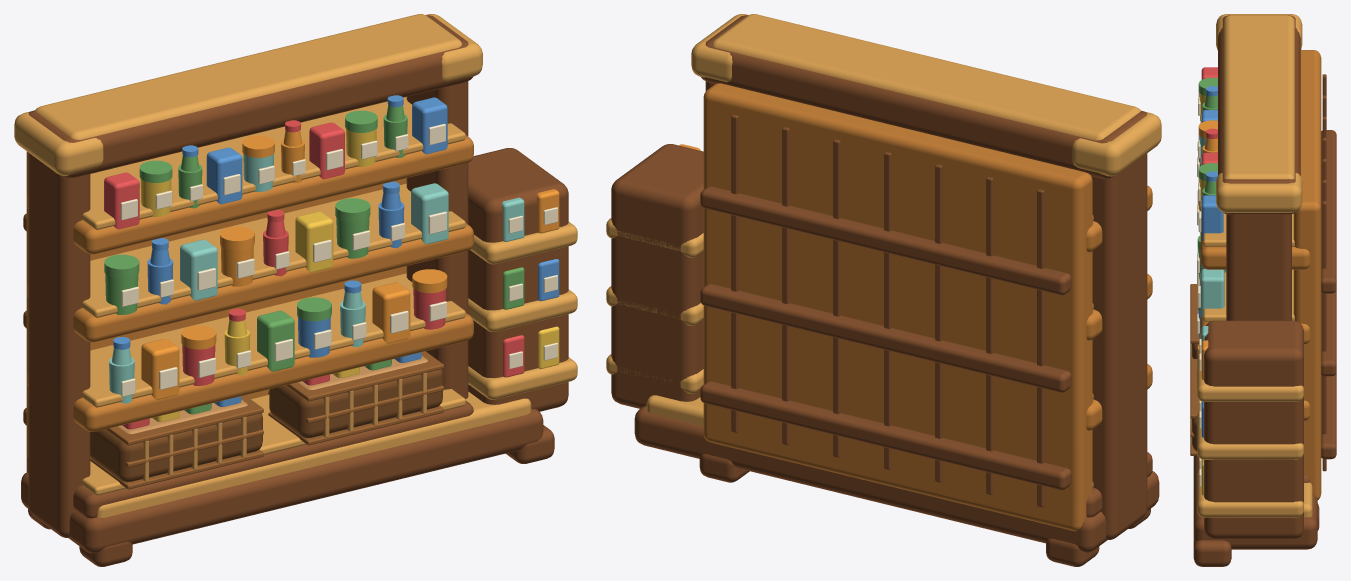
Rendered from retail-shelf.glb.
3 views of the same model, side by side, from view 1: azimuth 30°, elevation 25°; view 2: azimuth 150°, elevation 25°; view 3: azimuth 270°, elevation 25° (orthographic). The views are drawn at different scales.
Visible parts, largest first — view 1: two-sided-shelf-frame-surface-0, two-sided-shelf-frame-surface-14, pantry-carton-surface-0 (×12), closed-plinth-and-feet-surface-0, promotional-end-cap-surface-0, two-sided-shelf-frame-surface-12, woven-basket-surface-0 (×2), four-shelf-boards-surface-12, four-shelf-boards-surface-8, four-shelf-boards-surface-4, four-shelf-boards-surface-6, four-shelf-boards-surface-10 (+20 smaller); view 2: finished-back-panel-surface-0, promotional-end-cap-surface-0, two-sided-shelf-frame-surface-0, two-sided-shelf-frame-surface-14, two-sided-shelf-frame-surface-12, closed-plinth-and-feet-surface-0, finished-back-panel-surface-13, finished-back-panel-surface-9, finished-back-panel-surface-11, two-sided-shelf-frame-surface-4, finished-back-panel-surface-8, finished-back-panel-surface-5 (+11 smaller); view 3: promotional-end-cap-surface-0, two-sided-shelf-frame-surface-14, finished-back-panel-surface-0, two-sided-shelf-frame-surface-6, two-sided-shelf-frame-surface-10, two-sided-shelf-frame-surface-12, finished-back-panel-surface-13, closed-plinth-and-feet-surface-0, promotional-end-cap-surface-4, promotional-end-cap-surface-6, promotional-end-cap-surface-8, pantry-carton-surface-0 (×2) (+12 smaller).
Boxes of the visible parts, x1,y1,x2,y2 form: two-sided-shelf-frame-surface-0: [28, 153, 90, 537]; two-sided-shelf-frame-surface-14: [35, 14, 461, 139]; pantry-carton-surface-0 (×12): [104, 97, 559, 399]; closed-plinth-and-feet-surface-0: [21, 409, 543, 553]; promotional-end-cap-surface-0: [468, 148, 568, 411]; two-sided-shelf-frame-surface-12: [28, 15, 472, 178]; woven-basket-surface-0 (×2): [90, 369, 442, 482]; four-shelf-boards-surface-12: [27, 135, 473, 254]; four-shelf-boards-surface-8: [27, 223, 473, 342]; four-shelf-boards-surface-4: [27, 313, 473, 431]; four-shelf-boards-surface-6: [82, 273, 465, 407]; four-shelf-boards-surface-10: [82, 183, 465, 317]; finished-back-panel-surface-0: [703, 83, 1092, 531]; promotional-end-cap-surface-0: [611, 144, 703, 408]; two-sided-shelf-frame-surface-0: [1091, 153, 1147, 539]; two-sided-shelf-frame-surface-14: [712, 14, 1140, 140]; two-sided-shelf-frame-surface-12: [701, 15, 1147, 178]; closed-plinth-and-feet-surface-0: [634, 406, 1159, 552]; finished-back-panel-surface-13: [700, 186, 1071, 295]; finished-back-panel-surface-9: [700, 381, 1071, 490]; finished-back-panel-surface-11: [700, 284, 1071, 392]; two-sided-shelf-frame-surface-4: [1072, 111, 1161, 176]; finished-back-panel-surface-8: [731, 114, 738, 432]; finished-back-panel-surface-5: [884, 152, 891, 469]; promotional-end-cap-surface-0: [1204, 320, 1303, 539]; two-sided-shelf-frame-surface-14: [1223, 15, 1294, 179]; finished-back-panel-surface-0: [1293, 50, 1321, 499]; two-sided-shelf-frame-surface-6: [1226, 214, 1291, 320]; two-sided-shelf-frame-surface-10: [1216, 173, 1302, 212]; two-sided-shelf-frame-surface-12: [1218, 15, 1300, 214]; finished-back-panel-surface-13: [1321, 130, 1336, 293]; closed-plinth-and-feet-surface-0: [1193, 456, 1317, 549]; promotional-end-cap-surface-4: [1197, 469, 1303, 517]; promotional-end-cap-surface-6: [1197, 412, 1303, 459]; promotional-end-cap-surface-8: [1197, 354, 1303, 401]; pantry-carton-surface-0 (×2): [1200, 195, 1224, 317].
Size of the model in its own units: 1.75 by 1.4 by 0.5112.
